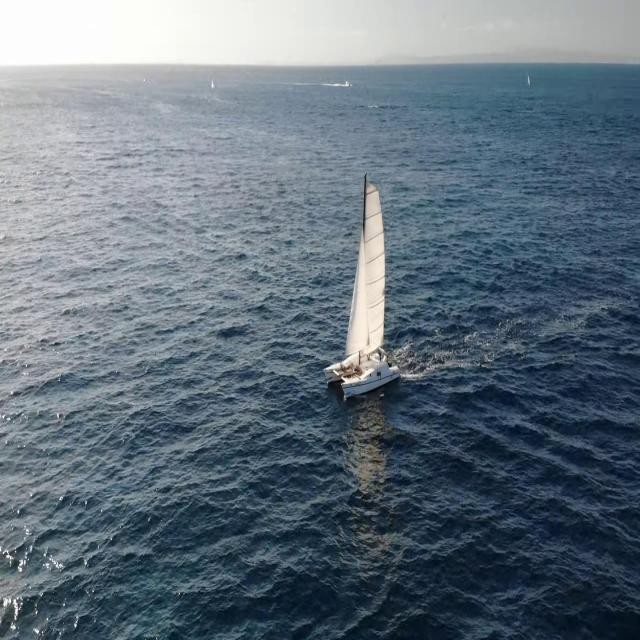sailboat: (326, 168, 402, 397)
